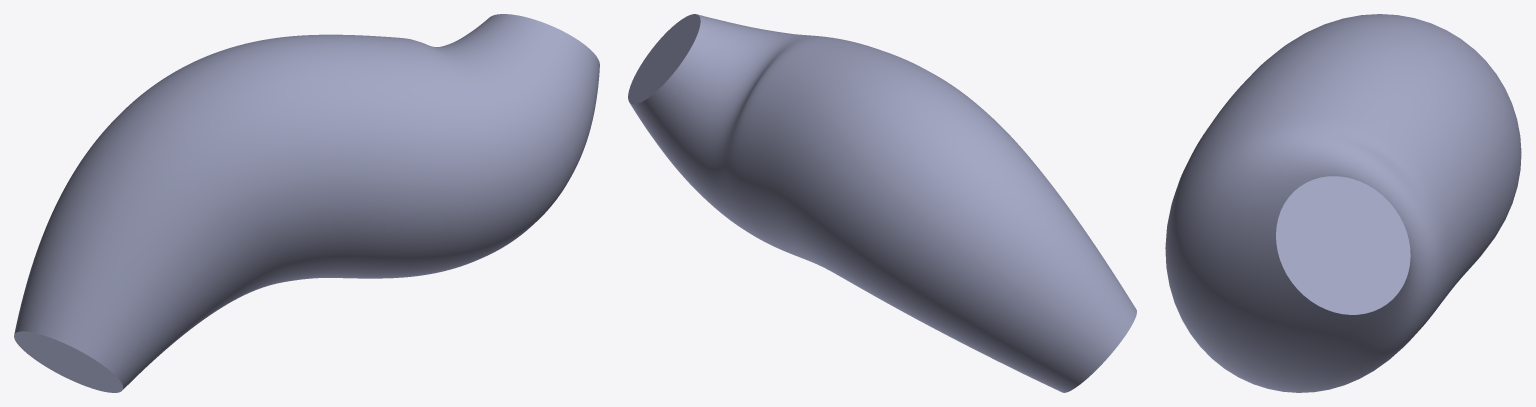
Rendered from fragment-v2.glb.
3 renders of one model, left to right at view 1: azimuth 30°, elevation 25°; view 2: azimuth 150°, elevation 25°; view 3: azimuth 270°, elevation 25°, orthographic. The views are drawn at different scales.
Parts seen in each view (by area): view 1: FragmentV2_mesh; view 2: FragmentV2_mesh; view 3: FragmentV2_mesh.
Boxes of the visible parts, box(x1,y1,x2,y2) form: FragmentV2_mesh: box(14, 14, 599, 392); FragmentV2_mesh: box(628, 14, 1136, 392); FragmentV2_mesh: box(1165, 14, 1521, 392).
Size of the model in its own units: 1.01 by 0.5117 by 0.4671.
